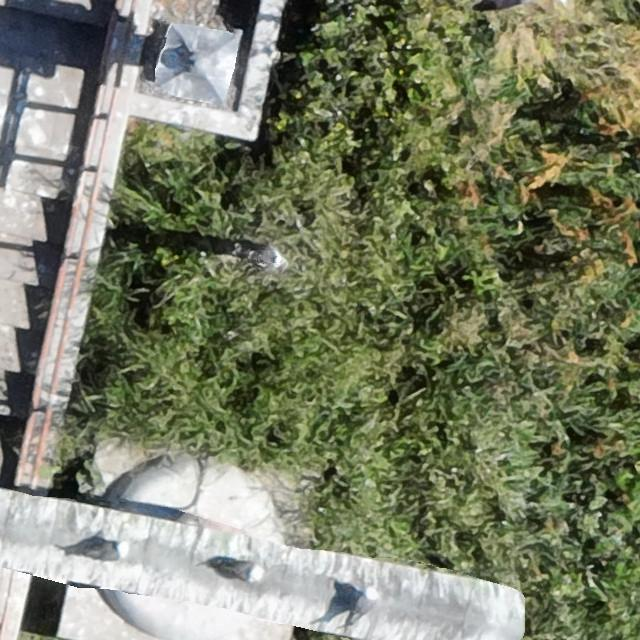umineko: (345, 588, 378, 630), (237, 243, 284, 267), (76, 540, 130, 558), (219, 563, 263, 582)
